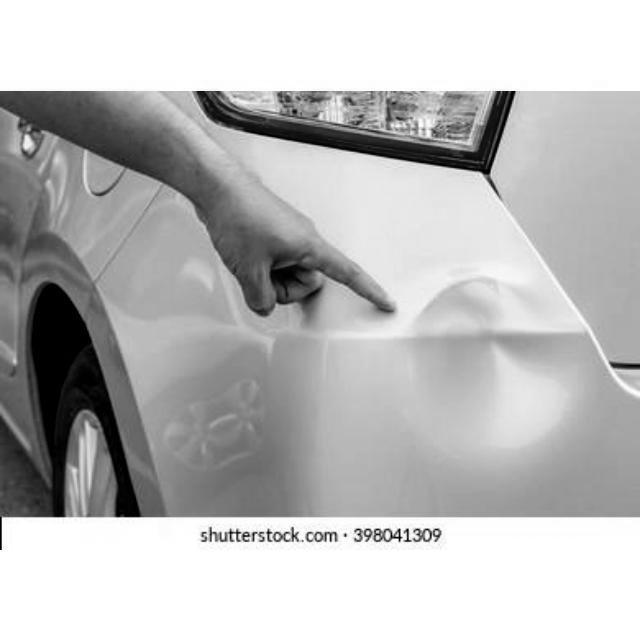rear-bumper-dent: (102, 265, 638, 522)
